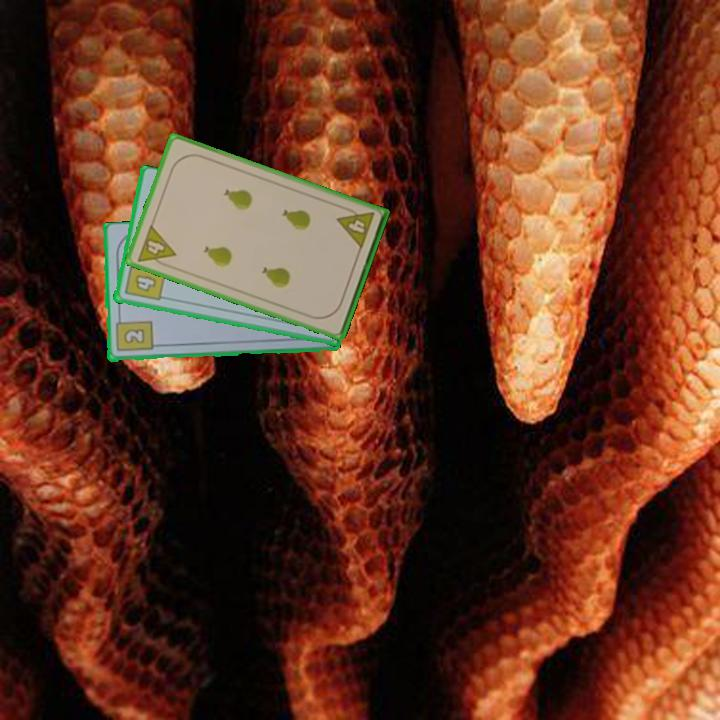2b: (112, 313, 155, 355)
4b: (120, 256, 167, 304)
4p: (133, 221, 179, 271), (333, 203, 377, 252)
